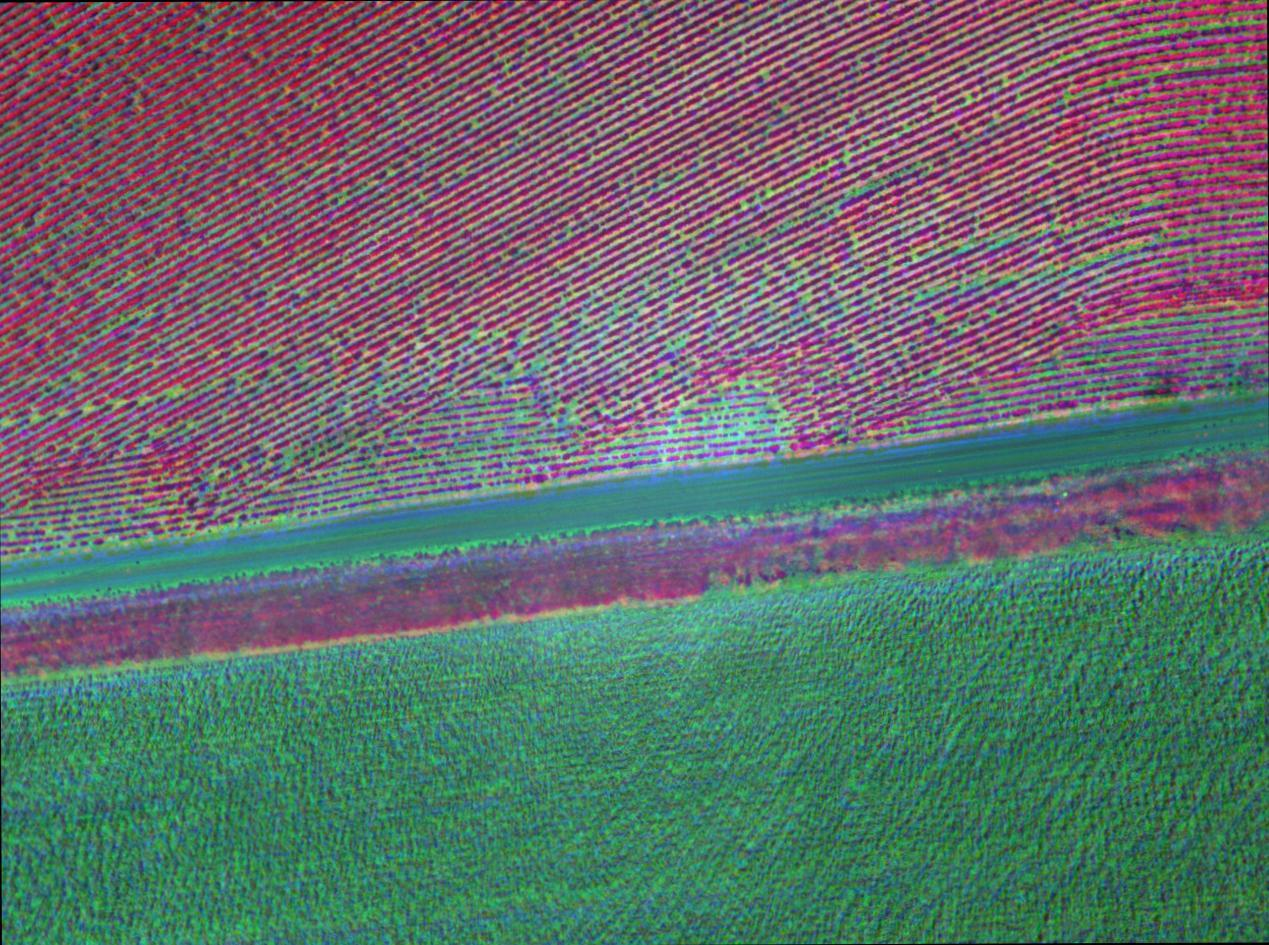dc: (738, 380, 745, 385), (340, 406, 347, 411), (555, 323, 561, 328), (473, 332, 479, 337), (46, 526, 51, 532), (418, 343, 423, 348), (169, 390, 174, 395), (662, 453, 667, 458), (21, 508, 26, 513), (724, 400, 728, 406), (389, 172, 394, 176), (212, 475, 216, 479), (128, 368, 132, 371), (668, 427, 672, 430)
